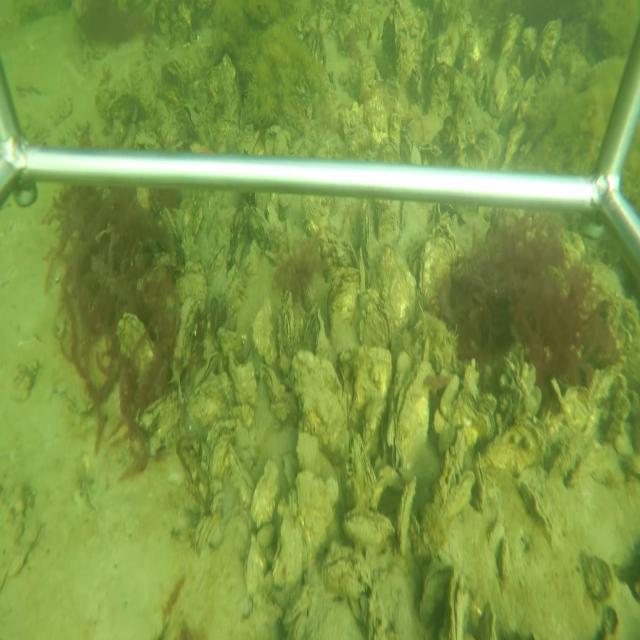Oyster-Closed: (271, 469, 339, 592), (291, 346, 352, 478), (393, 360, 436, 475), (339, 505, 395, 554), (350, 425, 379, 507), (419, 562, 454, 628), (516, 481, 556, 538), (227, 347, 260, 407), (228, 441, 255, 507), (243, 531, 269, 598), (397, 474, 416, 560), (256, 363, 287, 406), (191, 352, 220, 391), (208, 435, 230, 484), (551, 377, 571, 429), (473, 449, 489, 511), (362, 200, 375, 268), (314, 309, 331, 352), (209, 240, 225, 277), (163, 205, 179, 241)
Oyster-Indeterminate: (419, 223, 460, 315), (377, 243, 416, 333), (326, 263, 360, 344), (118, 312, 155, 385), (250, 458, 282, 526), (358, 301, 394, 346), (280, 452, 297, 485)
Oyster-Open: (440, 570, 473, 638), (174, 100, 199, 133)
